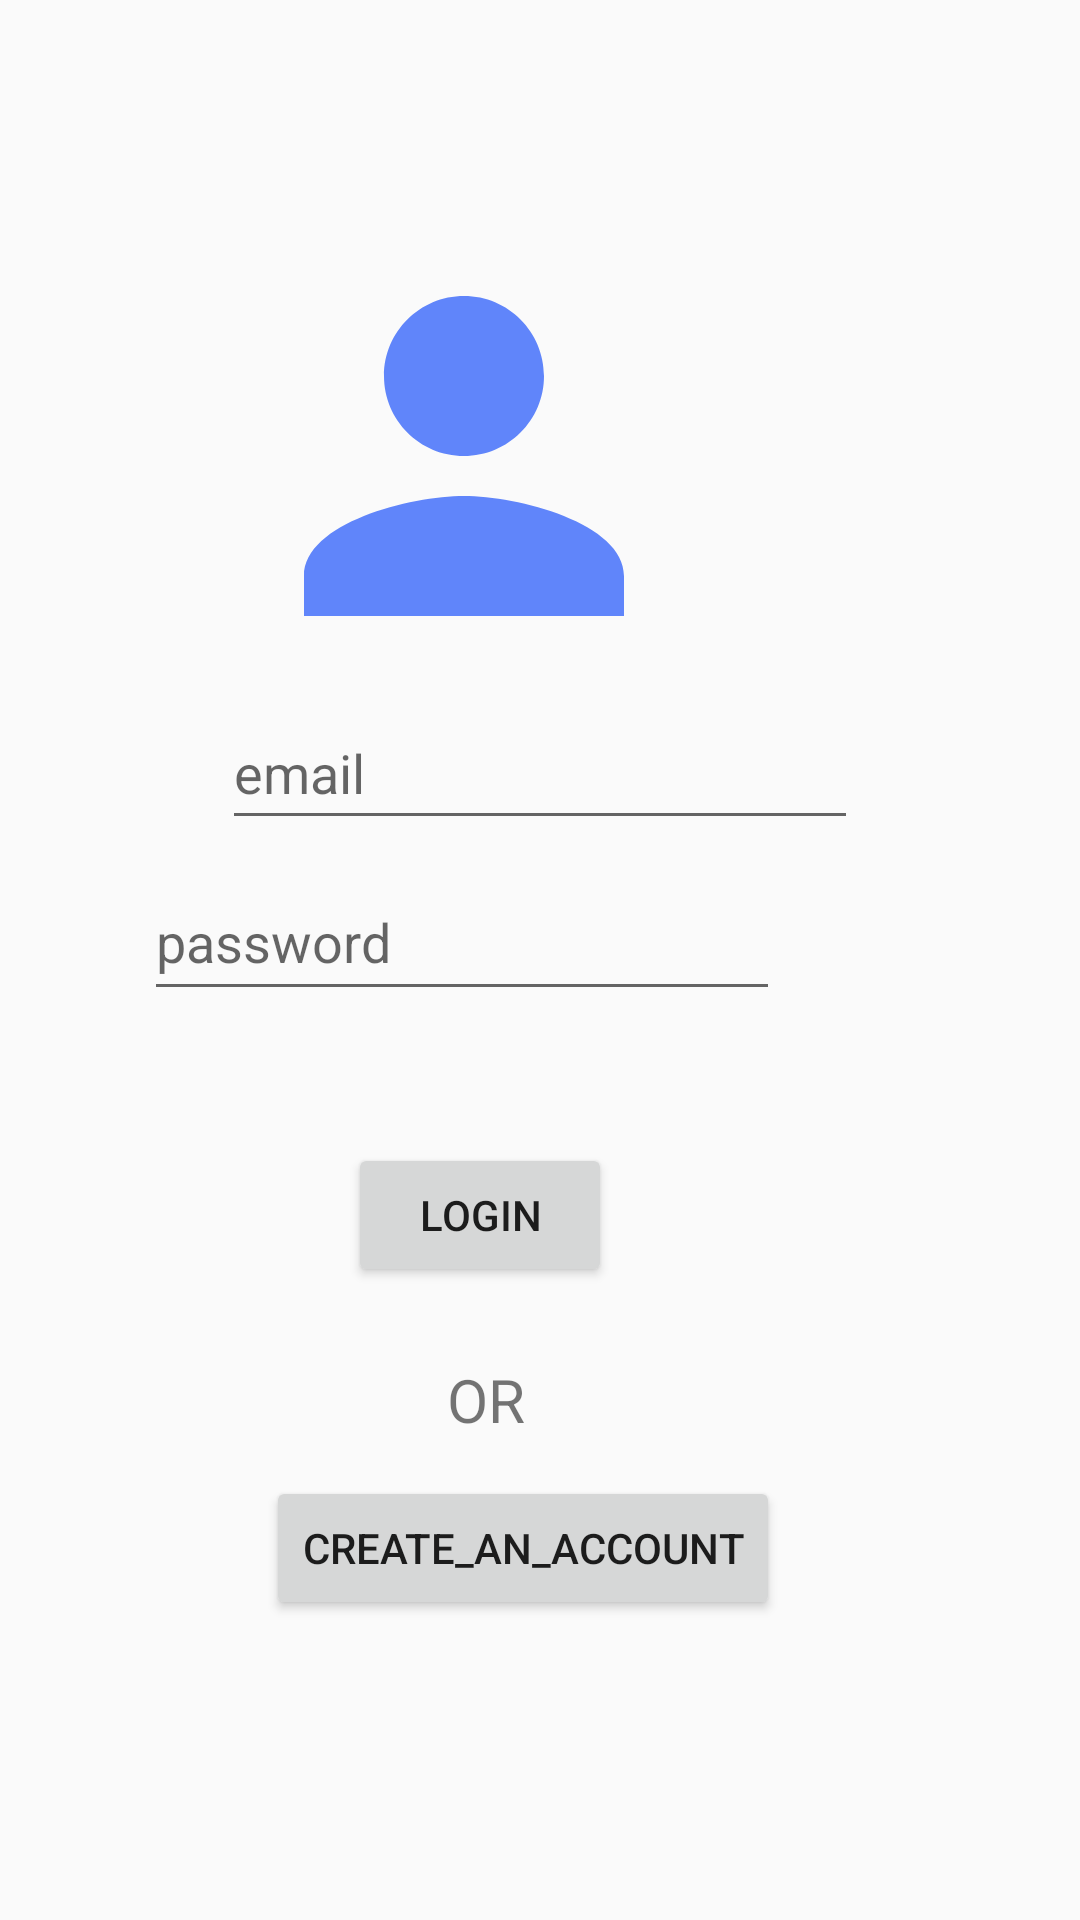

Screen size 1080w x 1920h. Icon name, then its box in pixels as (x1, y1, x2, y2):
person: (304, 296, 624, 616)
